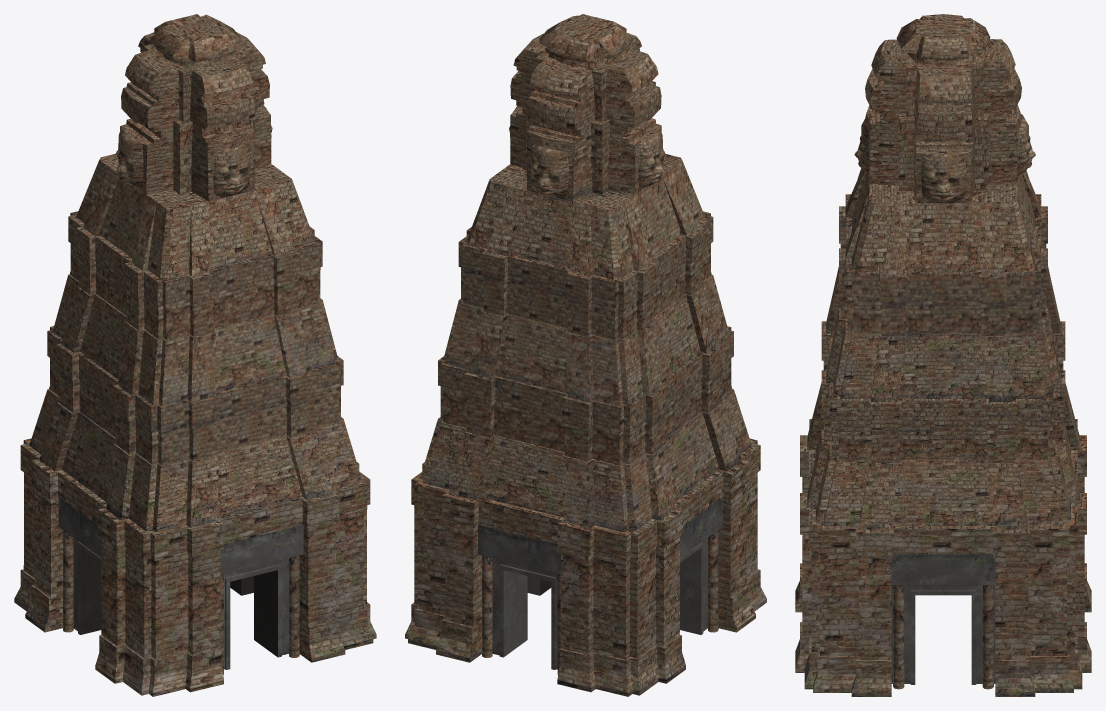
Rendered from _test_O_002_ruins_01_09.fbx.
3 views of the same model, side by side, from view 1: azimuth 30°, elevation 25°; view 2: azimuth 150°, elevation 25°; view 3: azimuth 270°, elevation 25° (orthographic). The views are drawn at different scales.
Visible parts, largest first — view 1: ruins_1F, ruins_4F, ruins_2F, ruins_3F; view 2: ruins_1F, ruins_4F, ruins_2F, ruins_3F; view 3: ruins_1F, ruins_4F, ruins_2F, ruins_3F.
Part boxes in pixels (x1,y1,x2,y2): ruins_1F: [14, 438, 376, 696]; ruins_4F: [76, 14, 314, 279]; ruins_2F: [29, 326, 361, 532]; ruins_3F: [52, 211, 338, 405]; ruins_1F: [405, 438, 766, 696]; ruins_4F: [466, 14, 705, 279]; ruins_2F: [420, 326, 751, 532]; ruins_3F: [443, 211, 728, 405]; ruins_1F: [795, 419, 1091, 696]; ruins_4F: [845, 14, 1041, 274]; ruins_2F: [807, 321, 1079, 529]; ruins_3F: [826, 194, 1060, 401].
Size of the model in its own units: 414 by 935 by 414.
